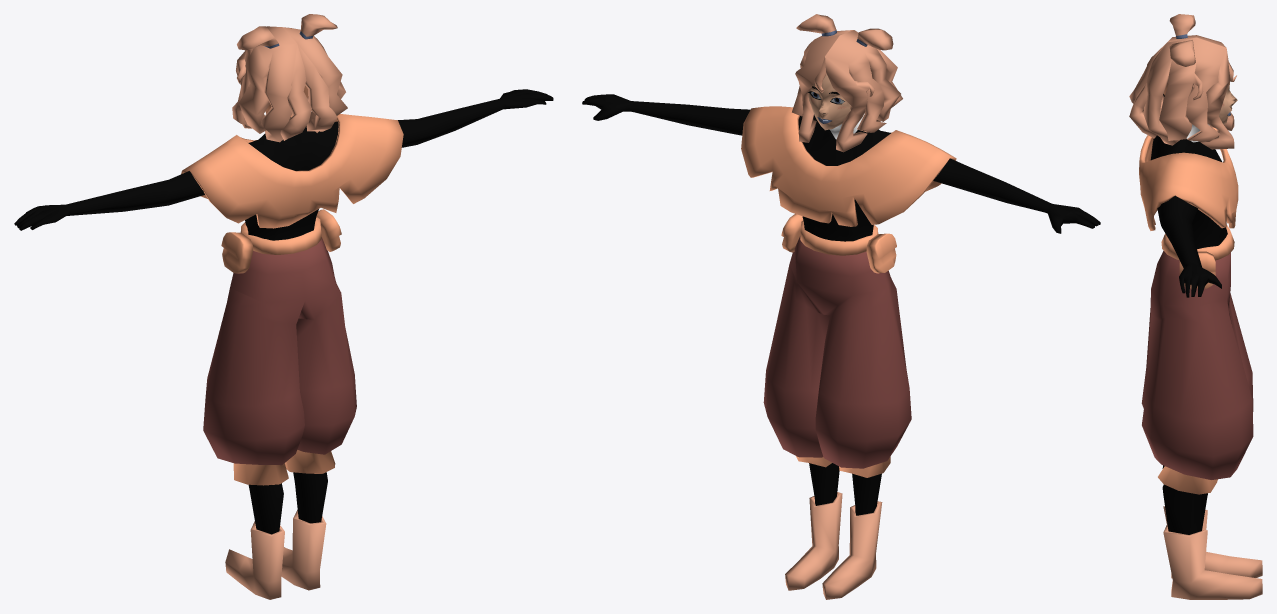
Rendered from mixamo_test.fbx.
3 views of the same model, side by side, from view 1: azimuth 30°, elevation 25°; view 2: azimuth 150°, elevation 25°; view 3: azimuth 270°, elevation 25° (orthographic). The views are drawn at different scales.
Parts seen in each view (by area): view 1: femBase.005, Plane.007, femBase, Cube, femBase.003, Cube.002, Cube.001, Cylinder.001; view 2: femBase.005, Plane.007, femBase, Cube, femBase.003, Cube.002, Cube.001, Cylinder.001; view 3: femBase.005, Cube, femBase, Plane.007, femBase.003, Cube.001, Cylinder.001, Cube.002.
Boxes of the visible parts, left/top/right/bottom form: femBase.005: left=203, top=237, right=356, bottom=485; Plane.007: left=181, top=114, right=403, bottom=228; femBase: left=14, top=85, right=553, bottom=534; Cube: left=232, top=26, right=347, bottom=142; femBase.003: left=225, top=510, right=326, bottom=599; Cube.002: left=221, top=209, right=341, bottom=273; Cube.001: left=237, top=14, right=337, bottom=50; Cylinder.001: left=240, top=216, right=321, bottom=254; femBase.005: left=763, top=236, right=911, bottom=477; Plane.007: left=741, top=106, right=956, bottom=226; femBase: left=582, top=74, right=1100, bottom=515; Cube: left=792, top=30, right=902, bottom=152; femBase.003: left=785, top=492, right=882, bottom=599; Cube.002: left=781, top=214, right=896, bottom=273; Cube.001: left=796, top=14, right=893, bottom=50; Cylinder.001: left=800, top=220, right=878, bottom=255; femBase.005: left=1141, top=250, right=1253, bottom=494; Cube: left=1129, top=35, right=1236, bottom=149; femBase: left=1150, top=83, right=1237, bottom=534; Plane.007: left=1139, top=127, right=1238, bottom=230; femBase.003: left=1163, top=506, right=1262, bottom=599; Cube.001: left=1169, top=14, right=1195, bottom=66; Cylinder.001: left=1161, top=225, right=1234, bottom=259; Cube.002: left=1179, top=251, right=1215, bottom=288.
Size of the model in its own units: 147 by 150 by 32.39.
